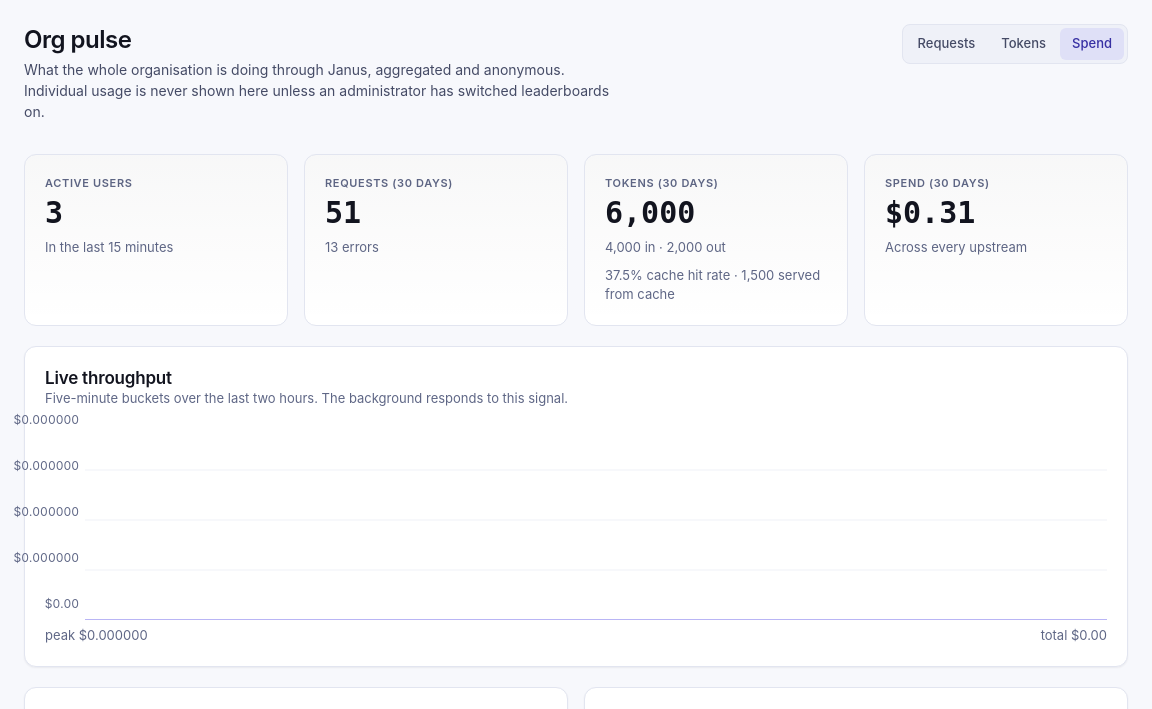
Test: emphasis default — the spend_emphasis flag picks the opening metric › a manual selector click still overrides the spend-emphasis default
Expected: the heading "Live throughput" is shown, left=45, top=368, right=172, bottom=388
Click the button "Tokens" at (1024, 44), box left=989, top=28, right=1058, bottom=60
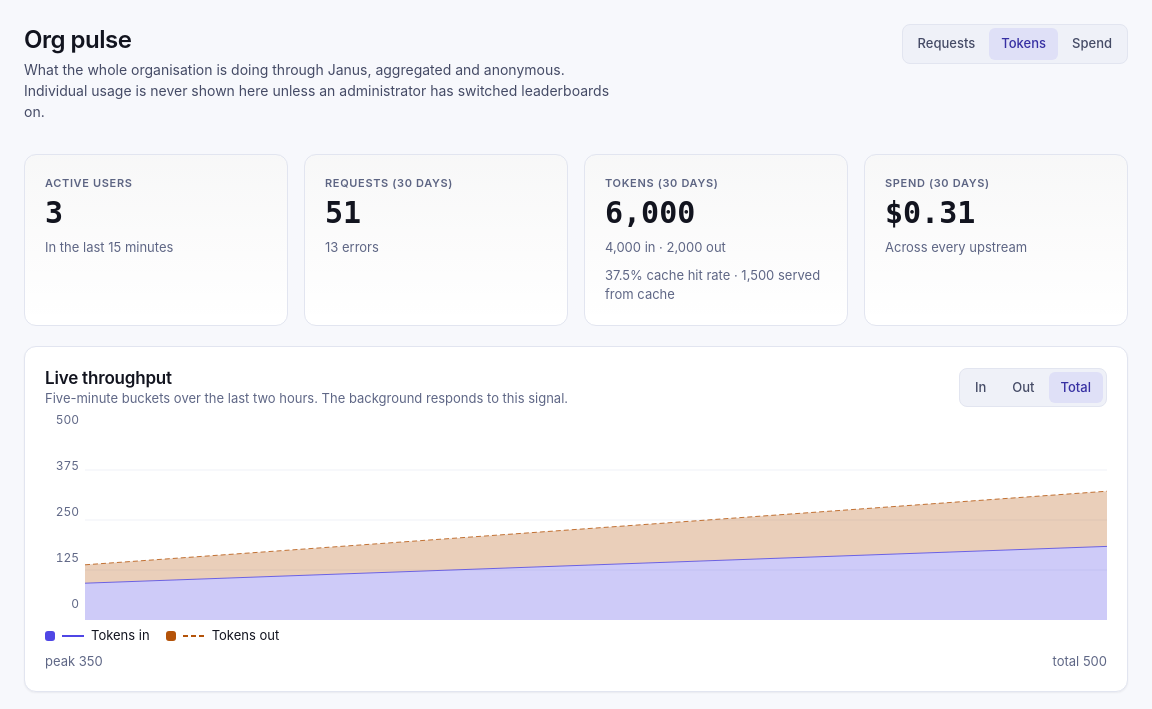
Expected: the text "Tokens in" is shown, left=91, top=626, right=150, bottom=646
